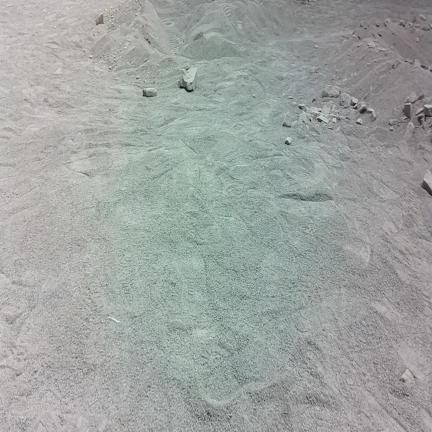Rock: (179, 67, 197, 91), (422, 170, 431, 195), (322, 85, 340, 97), (404, 122, 415, 141), (401, 369, 414, 383), (340, 93, 351, 107), (405, 92, 417, 103), (143, 88, 157, 97), (404, 102, 411, 118), (317, 114, 329, 123), (283, 114, 291, 127), (299, 112, 308, 122), (96, 13, 103, 25), (322, 105, 330, 115), (424, 105, 431, 116), (359, 104, 367, 113), (416, 107, 424, 116), (389, 119, 399, 126), (413, 60, 421, 68), (360, 21, 368, 28), (384, 18, 391, 26), (351, 97, 358, 105), (371, 110, 376, 121), (367, 107, 374, 114), (299, 104, 307, 110), (399, 20, 405, 27), (410, 16, 416, 23), (356, 118, 362, 125), (401, 115, 408, 121), (419, 14, 425, 21), (285, 137, 291, 144), (422, 26, 430, 31), (418, 94, 424, 100), (353, 104, 358, 109), (376, 21, 380, 27), (332, 118, 336, 123), (429, 23, 432, 29), (336, 127, 340, 131), (390, 126, 393, 131), (416, 37, 419, 42)
